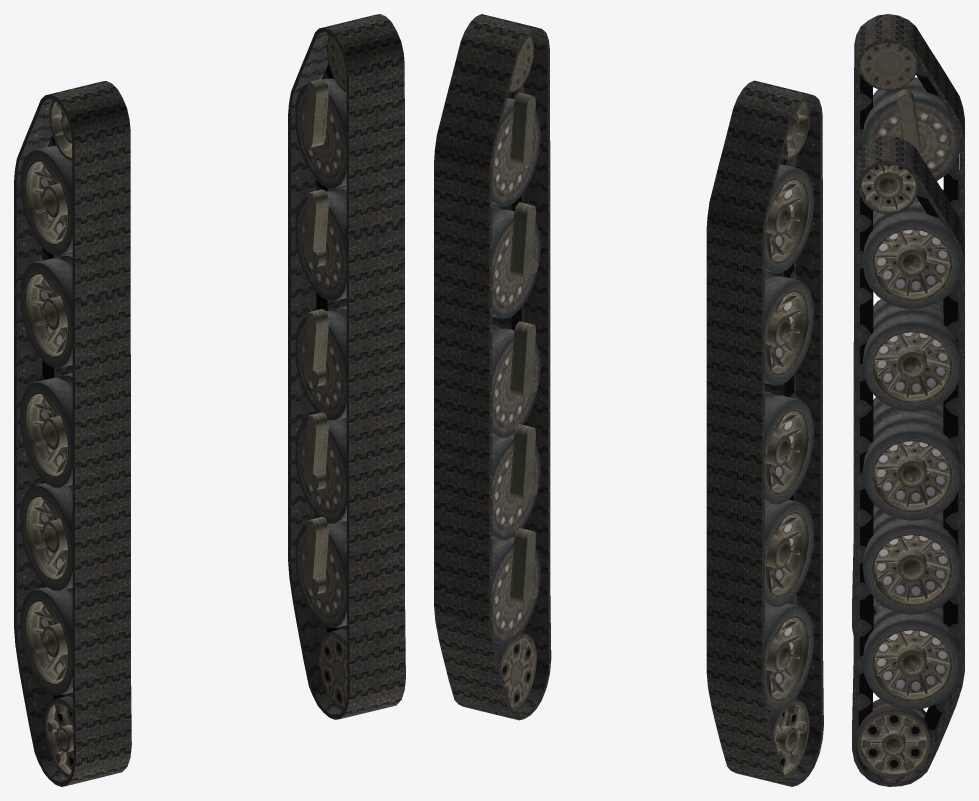
The model's file is Chassis.glb.
3 views of the same model, side by side, from view 1: azimuth 30°, elevation 25°; view 2: azimuth 150°, elevation 25°; view 3: azimuth 270°, elevation 25° (orthographic). The views are drawn at different scales.
Visible parts, largest first — view 1: set_3_group_0, set_0_group_0, set_1_group_0, set_2_group_0; view 2: set_1_group_0, set_0_group_0, set_3_group_0, set_2_group_0; view 3: set_3_group_0, set_0_group_0, set_1_group_0.
Part boxes in pixels (left/top/right/bottom): set_3_group_0: left=20, top=35, right=347, bottom=777; set_0_group_0: left=288, top=14, right=405, bottom=719; set_1_group_0: left=14, top=81, right=131, bottom=786; set_2_group_0: left=303, top=524, right=328, bottom=594; set_1_group_0: left=706, top=80, right=823, bottom=786; set_0_group_0: left=434, top=14, right=551, bottom=720; set_3_group_0: left=492, top=35, right=813, bottom=777; set_2_group_0: left=510, top=537, right=538, bottom=604; set_3_group_0: left=856, top=43, right=959, bottom=777; set_0_group_0: left=852, top=135, right=964, bottom=786; set_1_group_0: left=852, top=14, right=964, bottom=634.
Bounding box in the file's own units: 2.95 × 5.88 × 0.9604.
4 materials, 4 textured.
